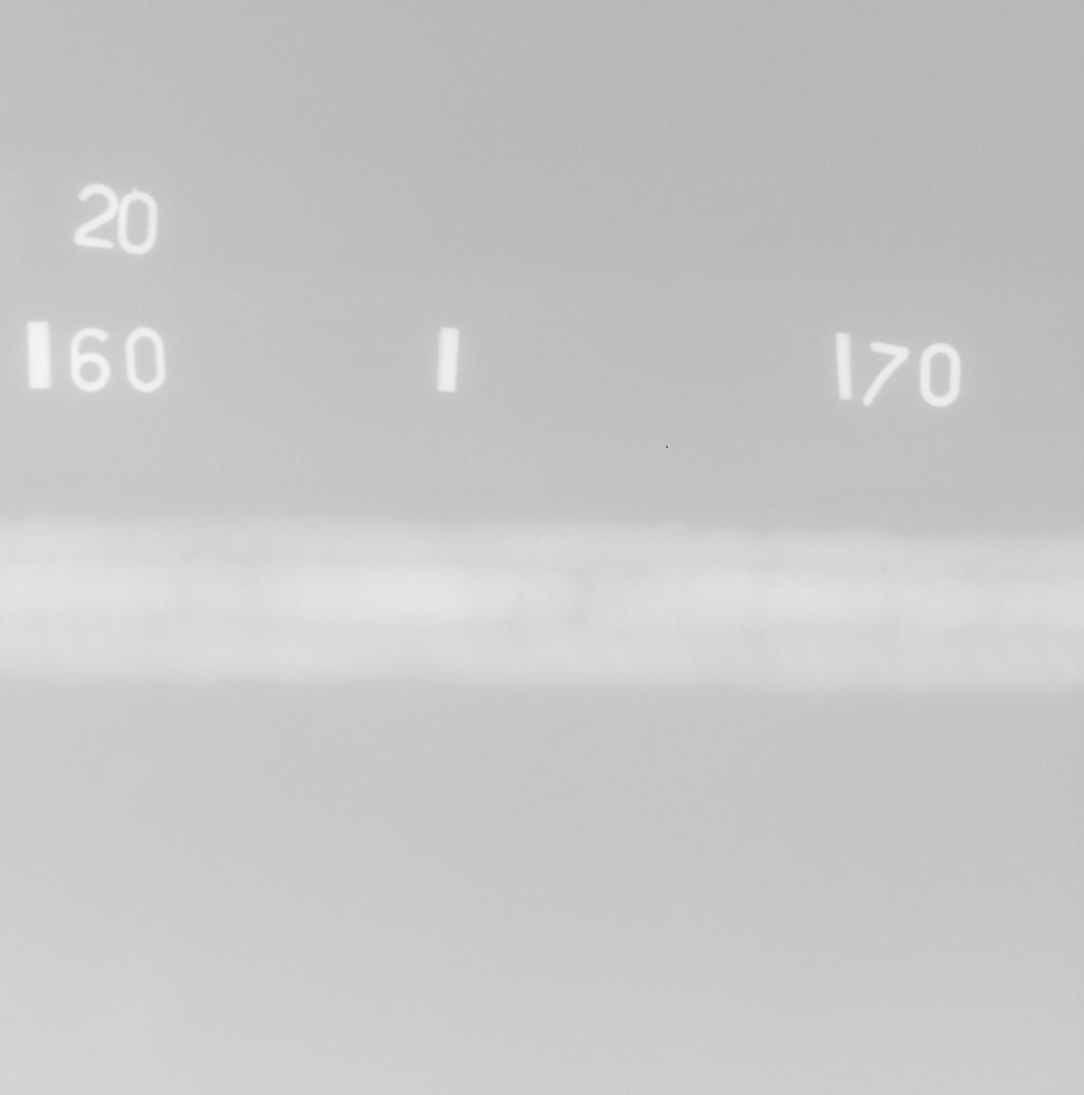Inclusion: (173, 611, 197, 620), (148, 598, 170, 606), (149, 562, 166, 566), (180, 560, 190, 565), (190, 551, 198, 556), (179, 621, 185, 626), (181, 552, 186, 557), (182, 582, 188, 586), (178, 571, 184, 575), (189, 591, 194, 595), (173, 583, 179, 585)
Pore/Porosity: (515, 592, 526, 604), (881, 566, 887, 575), (993, 609, 998, 614)
